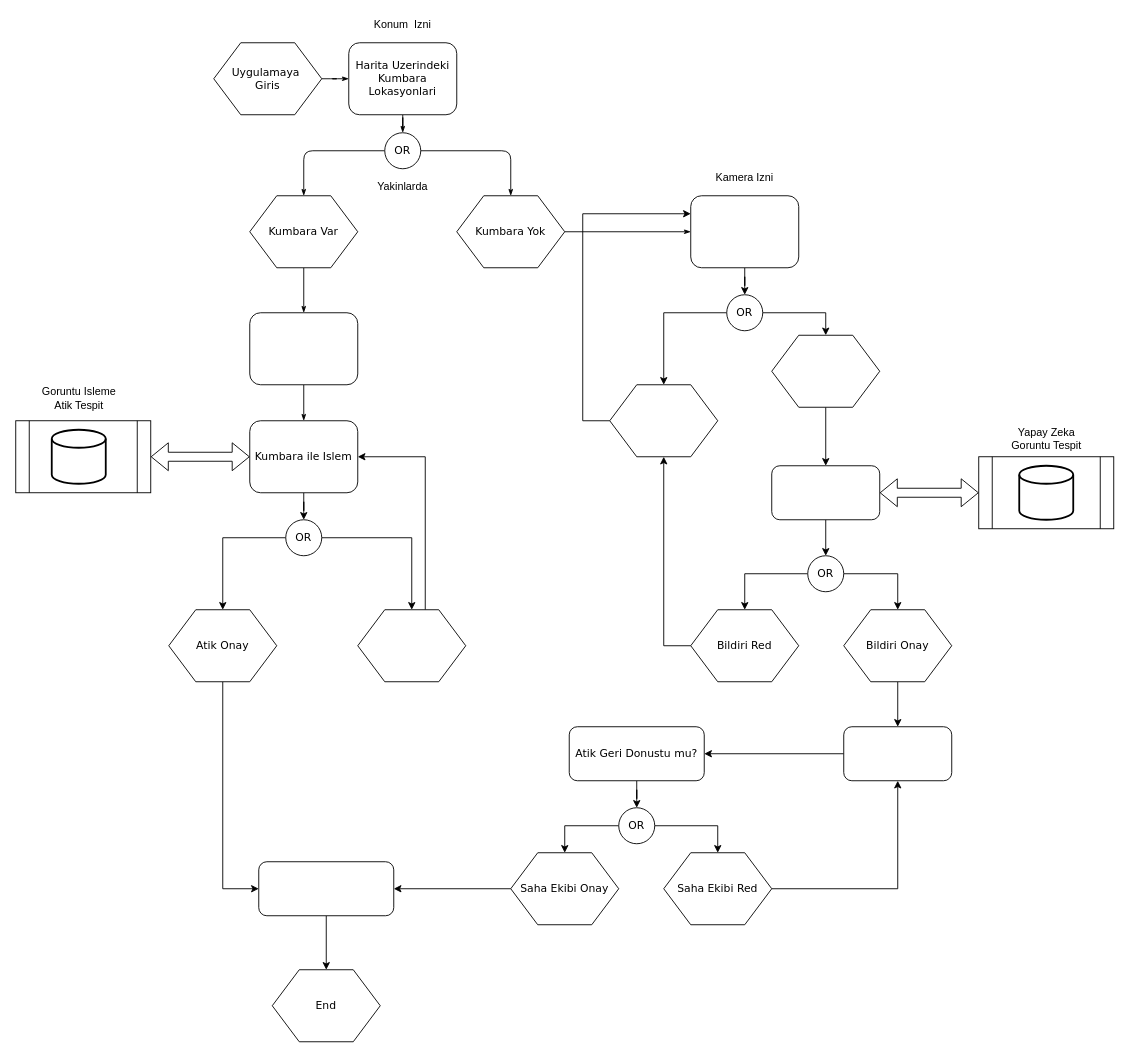
This 1130x1058 diagram has some shape labels left out. The box of each missing label's shape, as (x1, y1, x2, y2) in pixels:
Atik Bildirimi: (771, 465, 880, 520)
Atik Red: (357, 609, 466, 682)
Bakiye Yuklendi: (258, 861, 394, 916)
Gorsel Yuklendi: (771, 334, 880, 407)
Gorsel Yuklenmedi: (609, 384, 718, 457)
Harita Uzerinden Yol Tarifi: (249, 312, 358, 385)
Kamera ile Gorsel Yukleme: (690, 195, 799, 268)
Saha Ekibine Bildirim: (843, 726, 952, 781)
